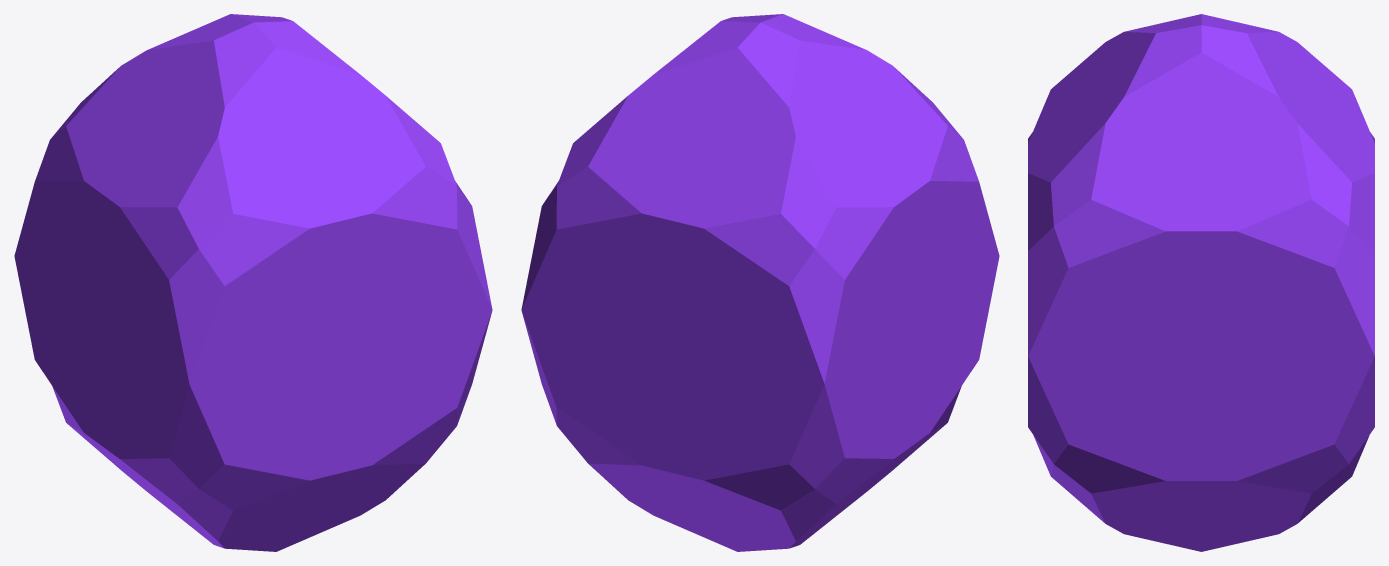
Rendered from Jem_27.fbx.
The picture shows the model from 3 angles, left to right: view 1: azimuth 30°, elevation 25°; view 2: azimuth 150°, elevation 25°; view 3: azimuth 270°, elevation 25°; orthographic projection.
Parts seen in each view (by area): view 1: Jem_27; view 2: Jem_27; view 3: Jem_27.
Part boxes in pixels (<box>): Jem_27: <box>14,14,492,551</box>; Jem_27: <box>521,14,999,551</box>; Jem_27: <box>1028,14,1374,551</box>.
Bounding box in the file's own units: 37.8 × 62.06 × 37.8.
